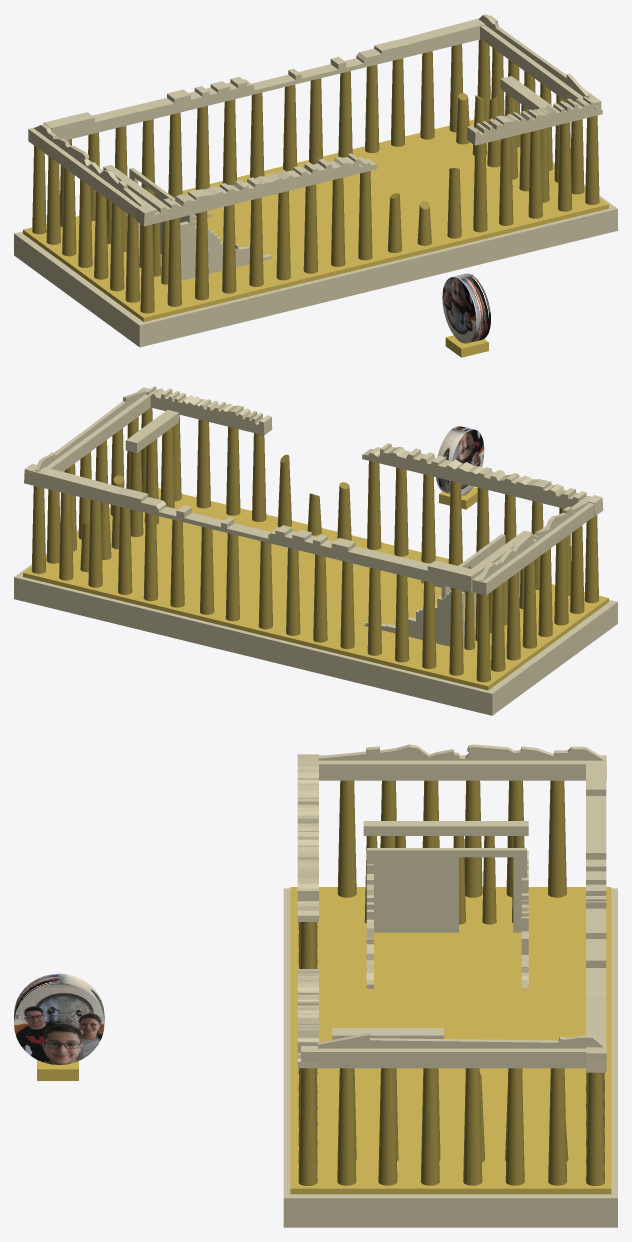
File: acropolis.dae
The picture shows the model from 3 angles, top to bottom: view 1: azimuth 30°, elevation 25°; view 2: azimuth 150°, elevation 25°; view 3: azimuth 270°, elevation 25°; orthographic projection. The views are drawn at different scales.
Parts seen in each view (by area): view 1: Box02, Box03, Line25, Line18, Line51, Cylinder, Box01, Box04, Line59, Line26, NGon01, NGon06 (+50 smaller); view 2: Box02, Box03, Line25, Line18, Line51, Box01, Box04, Cylinder, Line58, Line26, NGon08, NGon24 (+50 smaller); view 3: Box02, Box03, Box06, Cylinder, Line25, Box04, Box01, Line18, Line26, Line50, Box05, NGon26 (+20 smaller).
Boxes of the visible parts, x1,y1,x2,y2 form: Box02: (23,119,608,321); Box03: (14,161,617,347); Line25: (43,15,497,139); Line18: (136,153,377,226); Line51: (467,96,602,145); Cylinder: (442,273,490,343); Box01: (28,127,157,219); Box04: (480,25,601,108); Line59: (180,221,271,280); Line26: (34,124,145,206); NGon01: (140,224,154,313); NGon06: (276,191,290,280); Box02: (23,488,608,690); Box03: (14,507,617,715); Line25: (24,463,478,592); Line18: (362,443,603,516); Line51: (146,386,272,435); Box01: (472,495,594,595); Box04: (28,387,156,486); Cylinder: (436,426,484,495); Line58: (364,591,464,648); Line26: (479,500,589,581); NGon08: (394,467,408,556); NGon24: (196,419,210,508); Box02: (290,887,611,1194); Box03: (283,888,617,1227); Box06: (367,848,526,932); Cylinder: (14,973,104,1064); Line25: (586,761,606,1072); Box04: (301,1043,606,1068); Box01: (301,755,606,780); Line18: (297,754,318,921); Line26: (318,744,603,760); Line50: (318,1032,602,1048); Box05: (363,821,528,835); NGon26: (298,1068,317,1185).
Bounding box in the file's own units: 811 × 223 × 667.
Materials: 5 (1 with a texture image).
